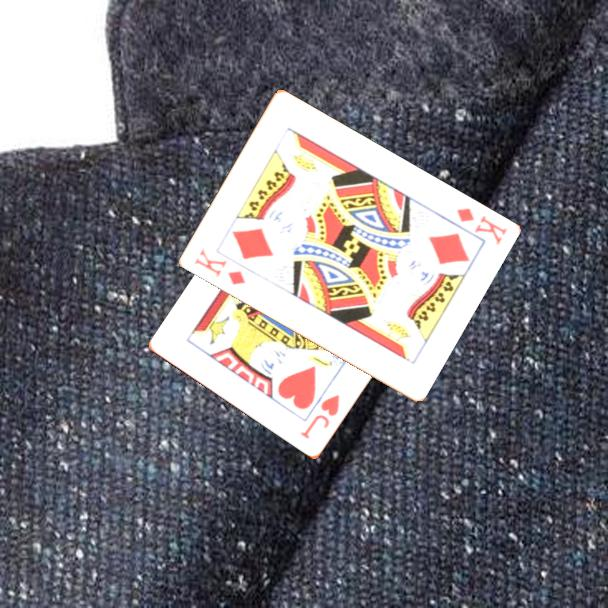d13: (452, 204, 510, 248), (190, 245, 248, 288)
h11: (297, 391, 343, 443)
